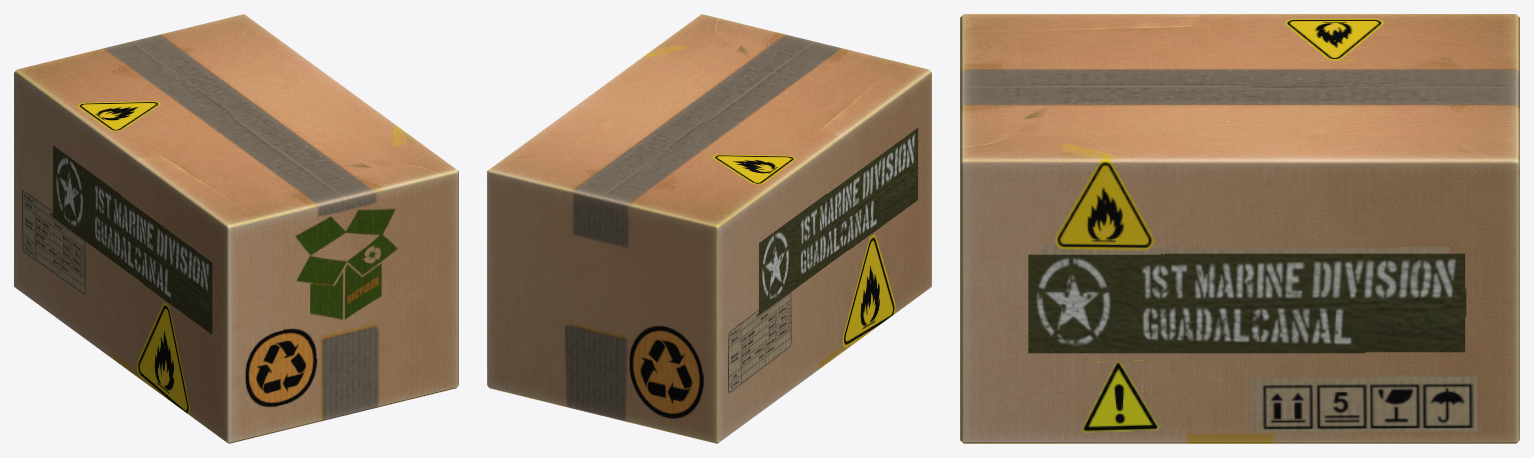
The model's file is cart_box2.fbx.
3 renders of one model, left to right at view 1: azimuth 30°, elevation 25°; view 2: azimuth 150°, elevation 25°; view 3: azimuth 270°, elevation 25°, orthographic. The views are drawn at different scales.
Parts seen in each view (by area): view 1: cart_box2_LOD0; view 2: cart_box2_LOD0; view 3: cart_box2_LOD0.
Boxes of the visible parts, <box> form: cart_box2_LOD0: <box>14,14,458,443</box>; cart_box2_LOD0: <box>487,14,931,443</box>; cart_box2_LOD0: <box>960,14,1519,443</box>.
Size of what is drawn, in the model's own units: 35.17 by 31.65 by 56.27.
